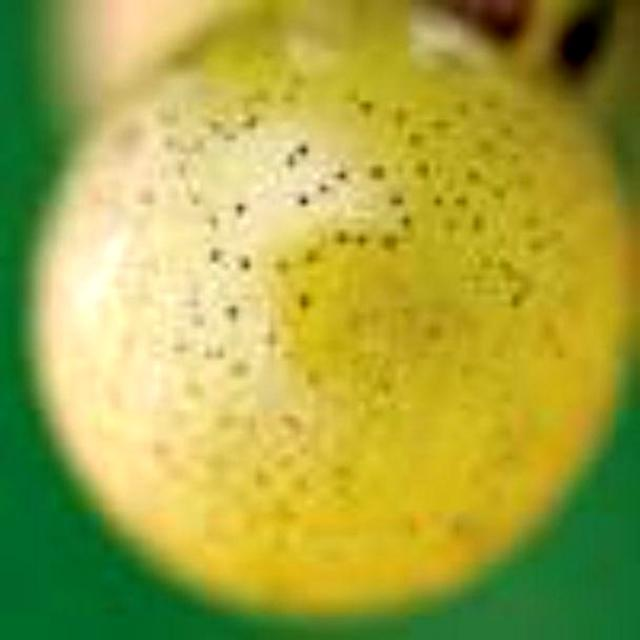BLOTCH: (60, 24, 621, 616)
